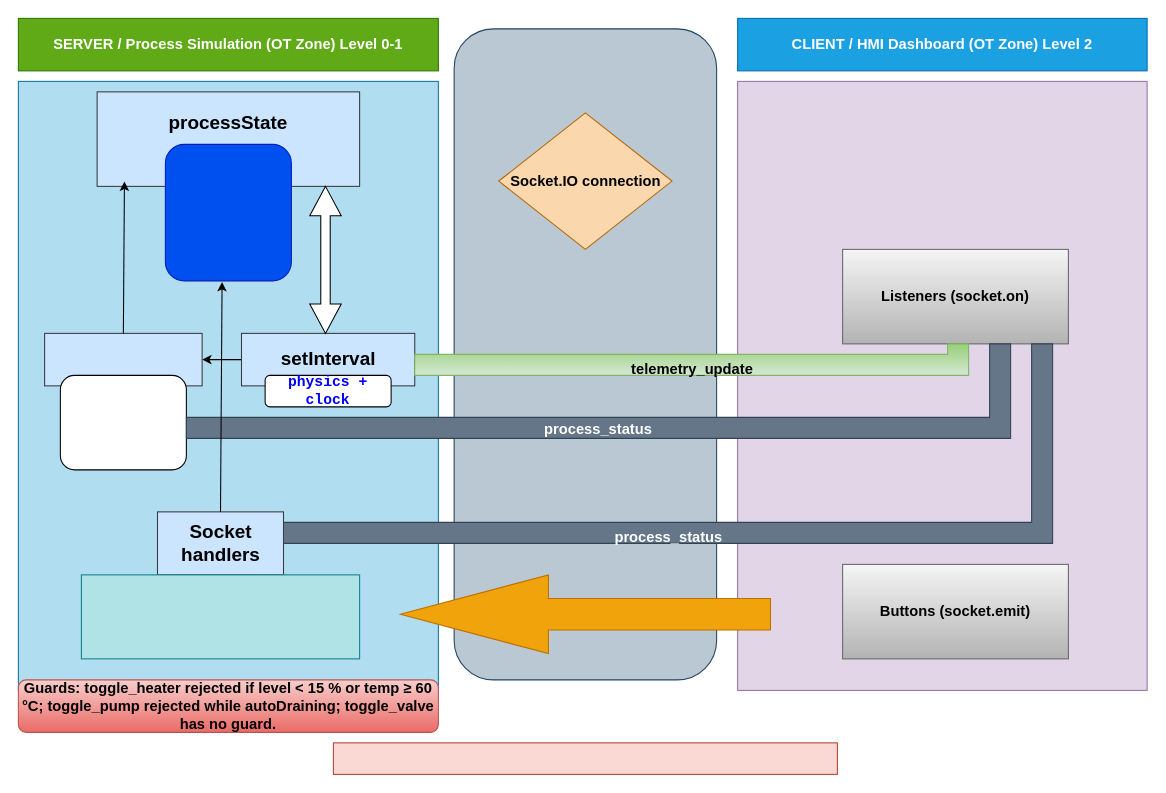
Image size: 1166x793. Some labels were removed from this diagram. Each missing label, with the centre of its shape:
"3 events toggle: heater / pump / valve" belongs at (584,614).
"high level, dry-burn, over-temp" belongs at (122,422).
"Interlocks" belongs at (123,359).
"io.on('connection')" belongs at (220,616).
"Simulated process: no real sensors or PLC" belongs at (584,758).
"temperature level pressure flowRate heaterOn pumpOn valveOpen autoDraining" belongs at (227,212).
